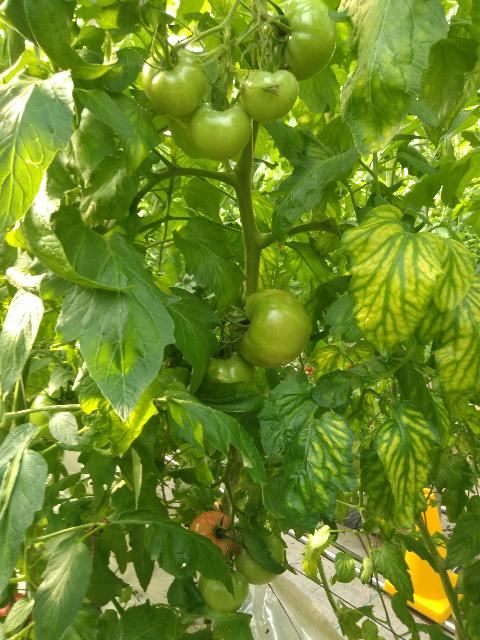b_green: (231, 289, 311, 368), (264, 0, 337, 81), (141, 46, 206, 117), (190, 101, 253, 162), (29, 383, 84, 441), (238, 69, 298, 122), (234, 527, 285, 585), (197, 569, 249, 613), (207, 349, 256, 387)
b_half_ripened: (188, 511, 237, 560)
